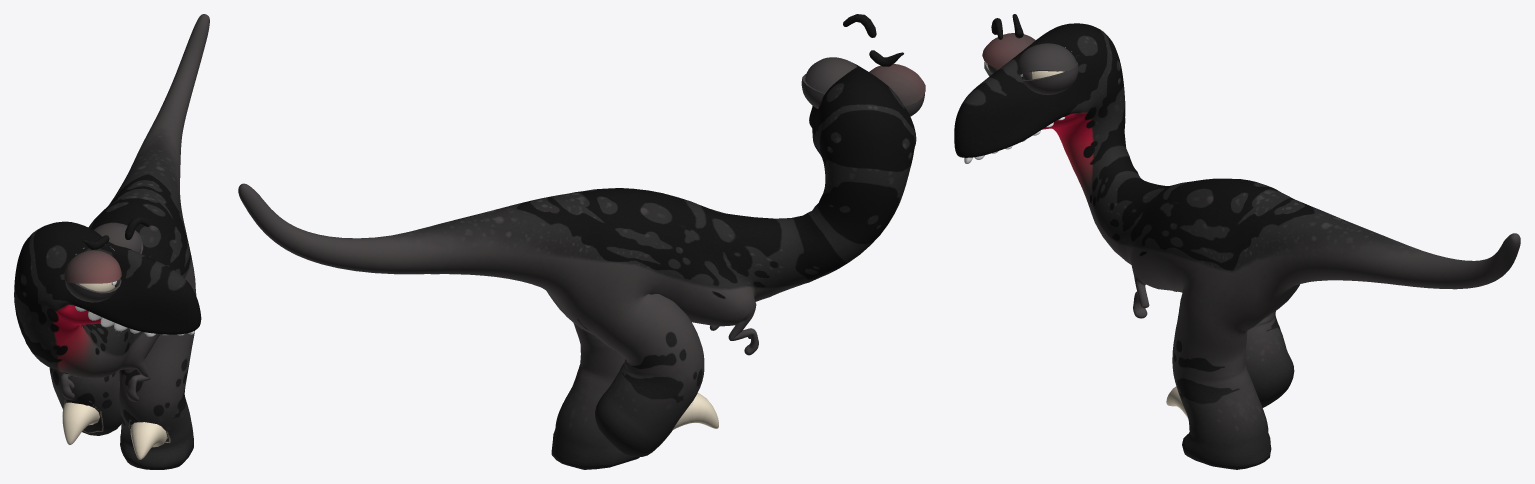
The model's file is raptor.glb.
The picture shows the model from 3 angles, left to right: view 1: azimuth 30°, elevation 25°; view 2: azimuth 150°, elevation 25°; view 3: azimuth 270°, elevation 25°; orthographic projection. The views are drawn at different scales.
Visible parts, largest first — view 1: Raptor_Unity_pose_v01:Raptor_Rig_020:Body_High_Geo, Raptor_Unity_pose_v01:Raptor_Rig_020:R_Uplid_Geo, Raptor_Unity_pose_v01:Raptor_Rig_020:r_claw_High, Raptor_Unity_pose_v01:Raptor_Rig_020:l_claw_High, Raptor_Unity_pose_v01:Raptor_Rig_020:L_Uplid_Geo, Raptor_Unity_pose_v01:Raptor_Rig_020:R_Lolid_Geo, Raptor_Unity_pose_v01:Raptor_Rig_020:c_upper_teeth_high, Raptor_Unity_pose_v01:Raptor_Rig_020:rt_eyebrow_low, Raptor_Unity_pose_v01:Raptor_Rig_020:R_Eye_Geo, Raptor_Unity_pose_v01:Raptor_Rig_020:lf_eyebrow_low; view 2: Raptor_Unity_pose_v01:Raptor_Rig_020:Body_High_Geo, Raptor_Unity_pose_v01:Raptor_Rig_020:R_Uplid_Geo, Raptor_Unity_pose_v01:Raptor_Rig_020:L_Uplid_Geo, Raptor_Unity_pose_v01:Raptor_Rig_020:r_claw_High; view 3: Raptor_Unity_pose_v01:Raptor_Rig_020:Body_High_Geo, Raptor_Unity_pose_v01:Raptor_Rig_020:L_Uplid_Geo, Raptor_Unity_pose_v01:Raptor_Rig_020:R_Uplid_Geo, Raptor_Unity_pose_v01:Raptor_Rig_020:L_Lolid_Geo.
Part boxes in pixels (box(x1,y1,x2,y2)): Raptor_Unity_pose_v01:Raptor_Rig_020:Body_High_Geo: box(14, 14, 209, 469); Raptor_Unity_pose_v01:Raptor_Rig_020:R_Uplid_Geo: box(64, 250, 121, 283); Raptor_Unity_pose_v01:Raptor_Rig_020:r_claw_High: box(62, 402, 99, 444); Raptor_Unity_pose_v01:Raptor_Rig_020:l_claw_High: box(130, 422, 167, 459); Raptor_Unity_pose_v01:Raptor_Rig_020:L_Uplid_Geo: box(94, 222, 141, 252); Raptor_Unity_pose_v01:Raptor_Rig_020:R_Lolid_Geo: box(65, 270, 121, 302); Raptor_Unity_pose_v01:Raptor_Rig_020:c_upper_teeth_high: box(75, 306, 194, 336); Raptor_Unity_pose_v01:Raptor_Rig_020:rt_eyebrow_low: box(125, 217, 150, 239); Raptor_Unity_pose_v01:Raptor_Rig_020:R_Eye_Geo: box(79, 282, 114, 291); Raptor_Unity_pose_v01:Raptor_Rig_020:lf_eyebrow_low: box(82, 235, 109, 249); Raptor_Unity_pose_v01:Raptor_Rig_020:Body_High_Geo: box(238, 62, 916, 469); Raptor_Unity_pose_v01:Raptor_Rig_020:R_Uplid_Geo: box(869, 64, 925, 105); Raptor_Unity_pose_v01:Raptor_Rig_020:L_Uplid_Geo: box(805, 57, 857, 93); Raptor_Unity_pose_v01:Raptor_Rig_020:r_claw_High: box(672, 393, 718, 430); Raptor_Unity_pose_v01:Raptor_Rig_020:Body_High_Geo: box(954, 23, 1520, 469); Raptor_Unity_pose_v01:Raptor_Rig_020:L_Uplid_Geo: box(1018, 43, 1076, 74); Raptor_Unity_pose_v01:Raptor_Rig_020:R_Uplid_Geo: box(982, 33, 1035, 68); Raptor_Unity_pose_v01:Raptor_Rig_020:L_Lolid_Geo: box(1022, 62, 1078, 95).
Bounding box in the file's own units: 1.34 × 1.13 × 1.57.
Materials: 2 (2 with a texture image).
